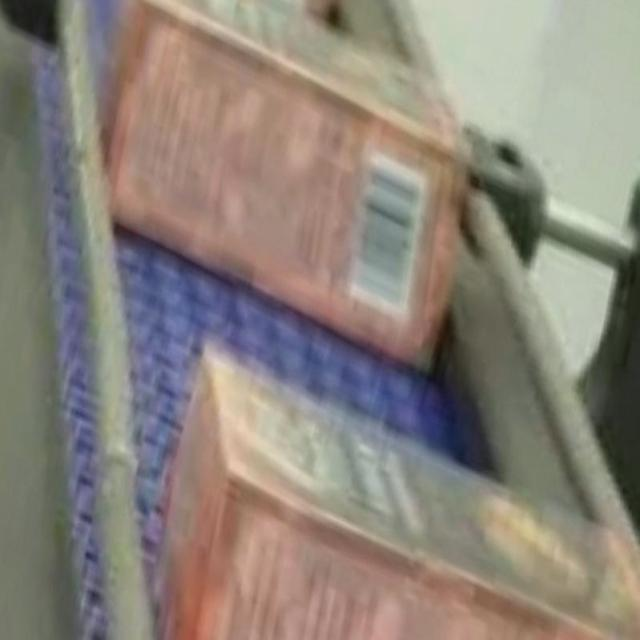food: (151, 338, 638, 640), (96, 0, 470, 376)
